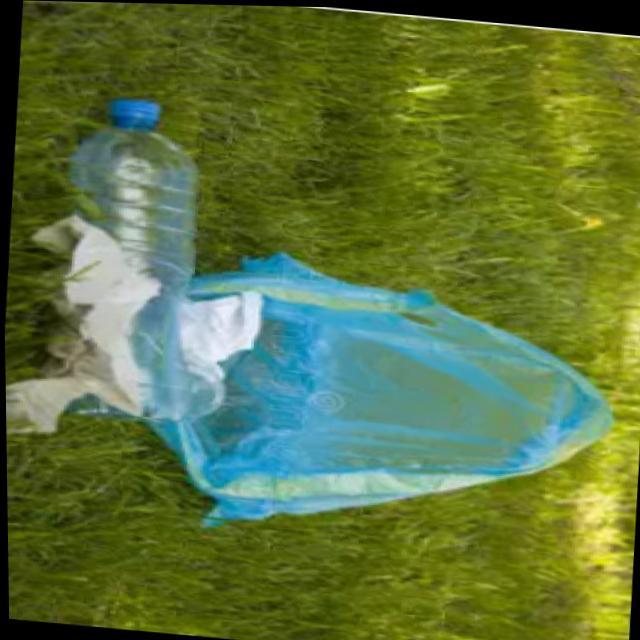food: (2, 211, 160, 469)
leaf: (49, 75, 211, 438)
metal: (147, 239, 621, 558)
